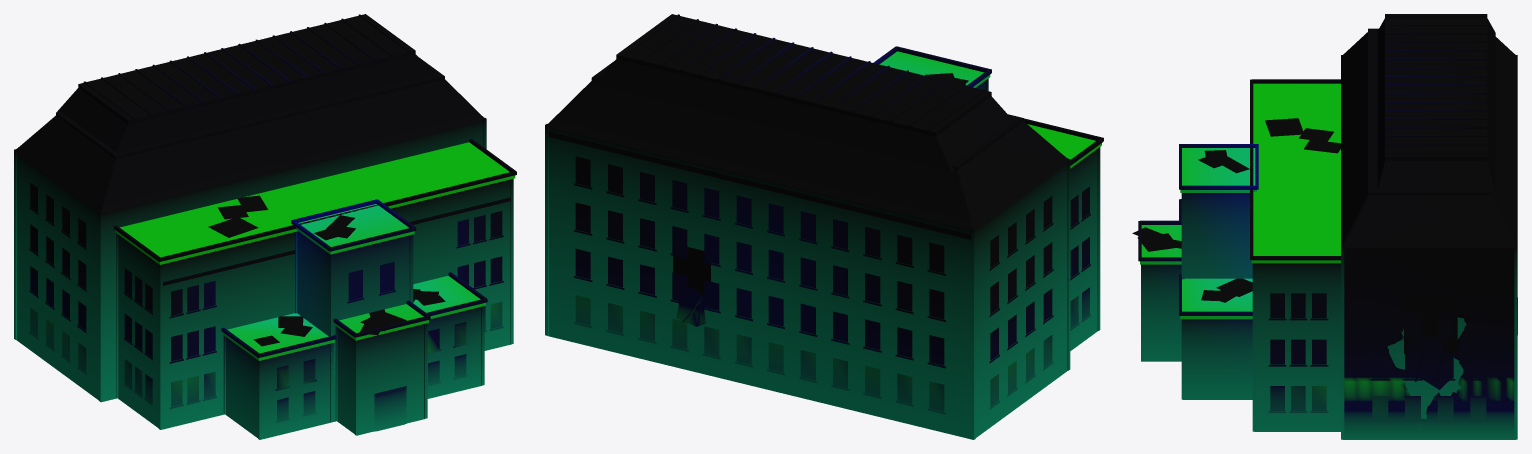
File: s_main_damaged.glb
The picture shows the model from 3 angles, left to right: view 1: azimuth 30°, elevation 25°; view 2: azimuth 150°, elevation 25°; view 3: azimuth 270°, elevation 25°; orthographic projection. The views are drawn at different scales.
Visible parts, largest first — view 1: lod0; view 2: lod0; view 3: lod0.
Boxes of the visible parts, left/top/right/bottom form: lod0: left=14, top=14, right=516, bottom=439; lod0: left=545, top=14, right=1103, bottom=439; lod0: left=1132, top=14, right=1517, bottom=439.
Size of what is drawn, in the model's own units: 42.74 by 27.01 by 36.29.
